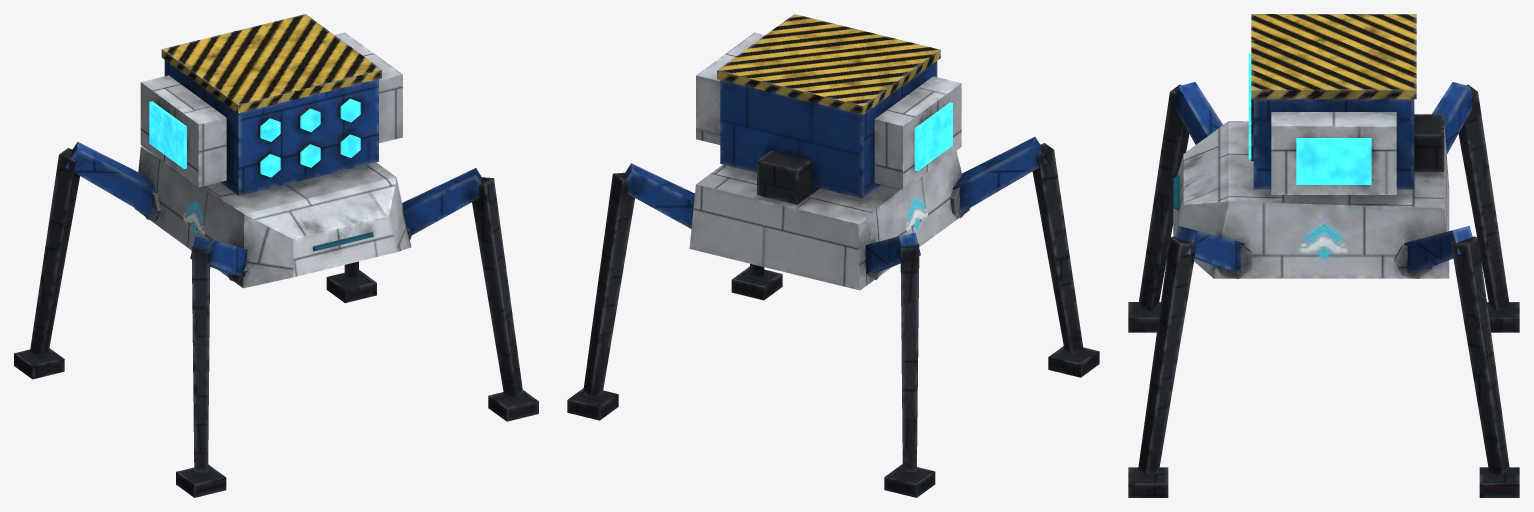
Rendered from u_havoc2_w.glb.
The picture shows the model from 3 angles, left to right: view 1: azimuth 30°, elevation 25°; view 2: azimuth 150°, elevation 25°; view 3: azimuth 270°, elevation 25°; orthographic projection. The views are drawn at different scales.
Parts seen in each view (by area): view 1: u_havoc2_w; view 2: u_havoc2_w; view 3: u_havoc2_w.
Part boxes in pixels (<box>): u_havoc2_w: <box>14,14,538,497</box>; u_havoc2_w: <box>567,14,1099,497</box>; u_havoc2_w: <box>1128,14,1519,497</box>.
Size of the model in its own units: 1.99 by 1.8 by 1.8.
1 material, 1 textured.
